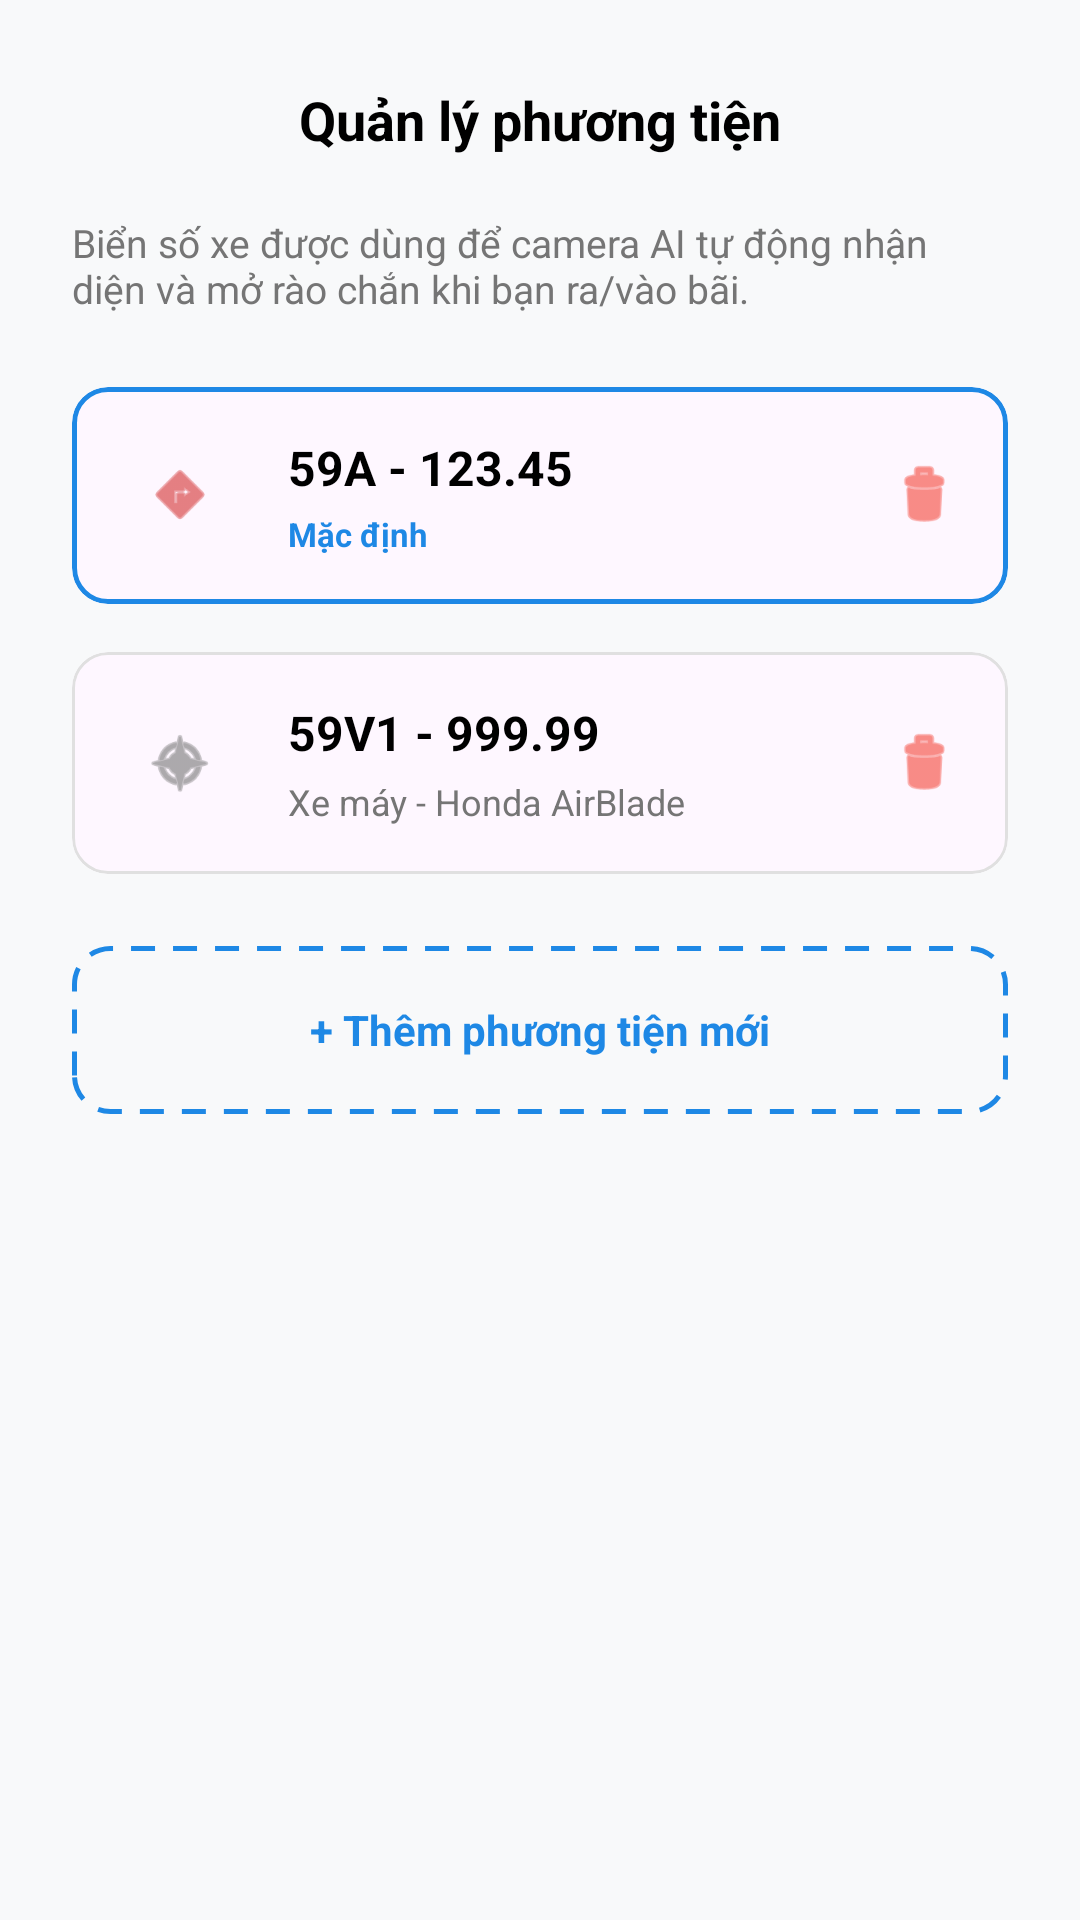

Icons on this 1080*1920 Android screen, each with the point to tap as (x,y):
delete: (924,494), (924,762)
directions: (180,494)
